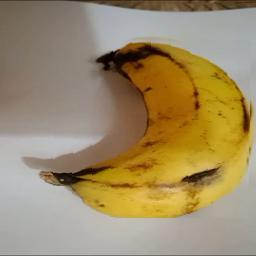Banana Semifresh: (45, 30, 251, 218)
